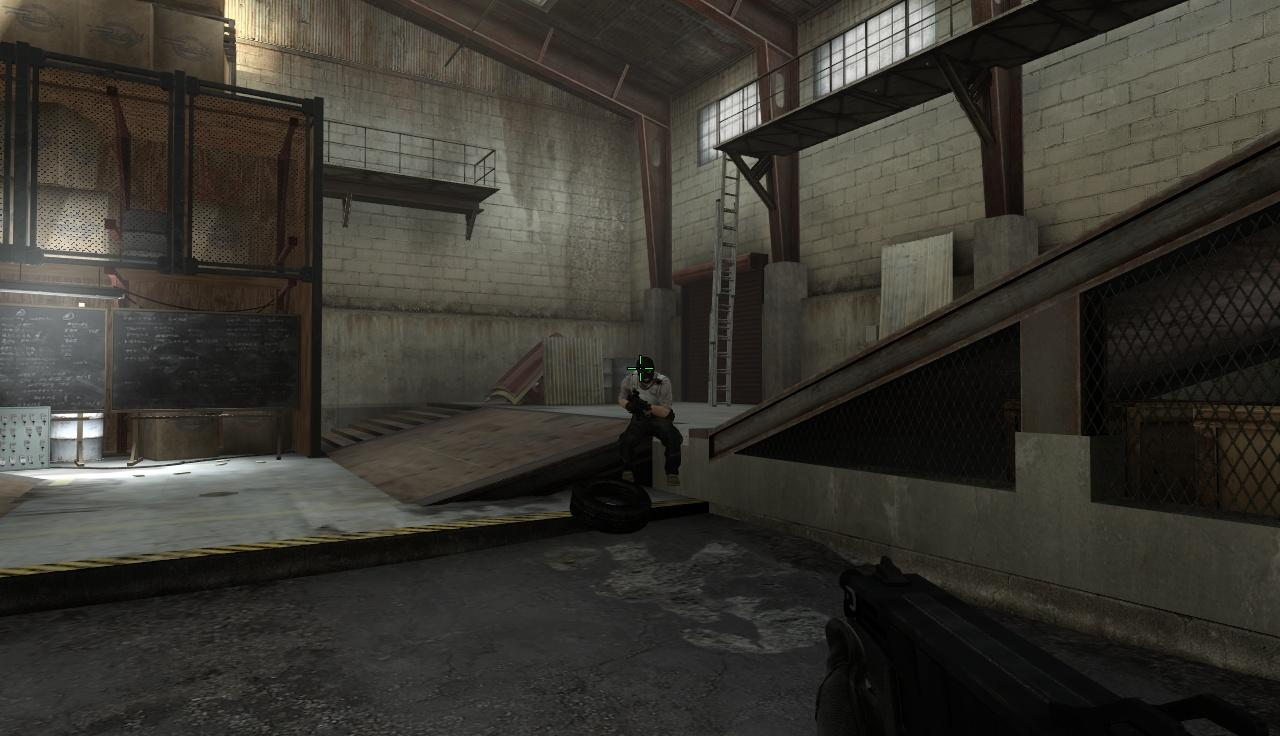shotgun: (815, 557, 1186, 736)
tt: (620, 355, 675, 488)
tthead: (636, 356, 654, 381)
